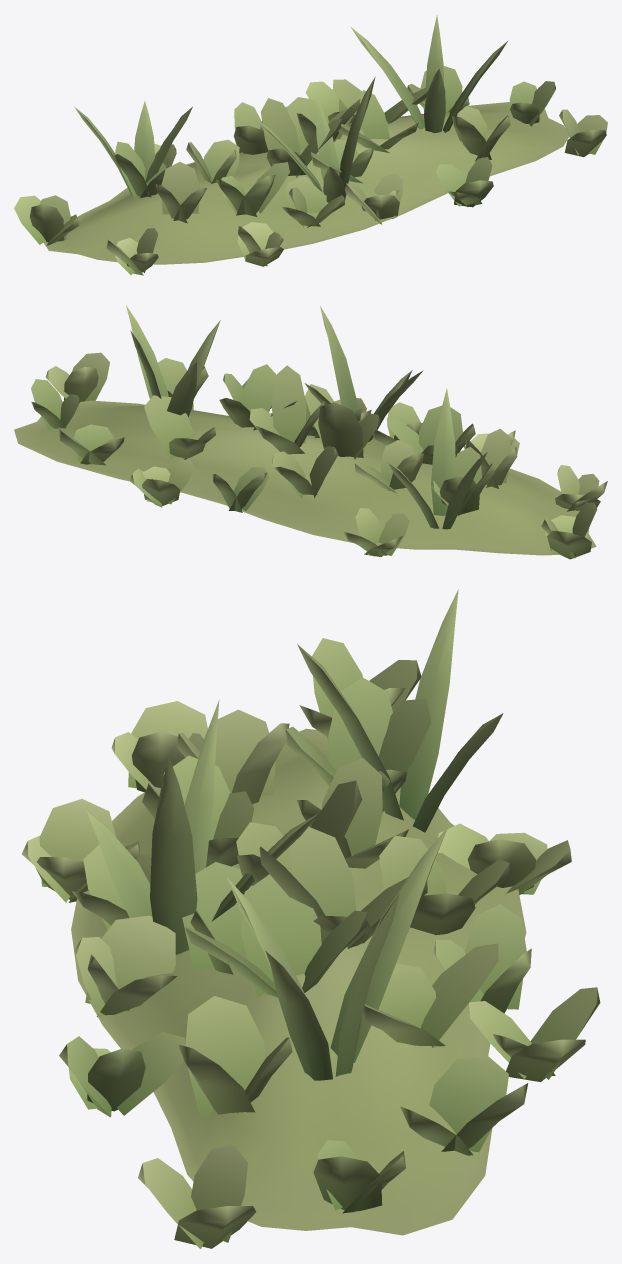
The model's file is patch_strip_b.glb.
3 views of the same model, one above another, from view 1: azimuth 30°, elevation 25°; view 2: azimuth 150°, elevation 25°; view 3: azimuth 270°, elevation 25° (orthographic). The views are drawn at different scales.
Visible parts, largest first — view 1: Patch_Strip_B.001; view 2: Patch_Strip_B.001; view 3: Patch_Strip_B.001.
Part boxes in pixels (x1,y1,x2,y2): Patch_Strip_B.001: [14, 15, 607, 275]; Patch_Strip_B.001: [14, 305, 607, 559]; Patch_Strip_B.001: [22, 589, 600, 1248].
Bounding box in the file's own units: 1.27 × 0.3086 × 0.5816.
